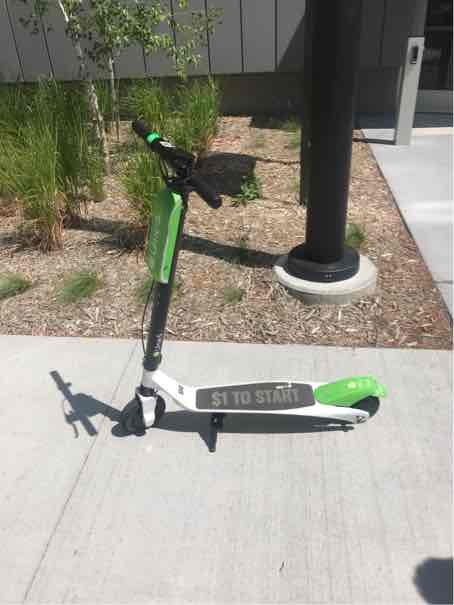scooter: (111, 116, 389, 446)
